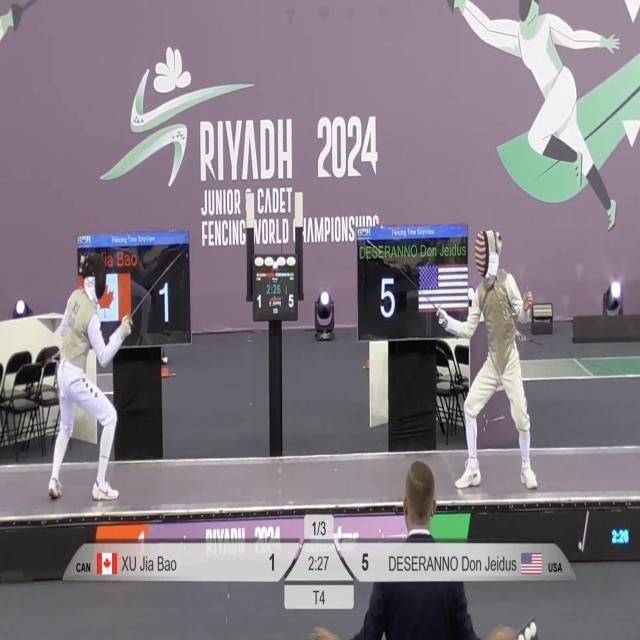fencer: (443, 221, 544, 496), (36, 249, 135, 506)
overlayLeft: (59, 538, 219, 582)
overlayRight: (376, 543, 578, 581)
scoreLeft: (256, 540, 300, 580)
scoreRight: (332, 541, 373, 580)
